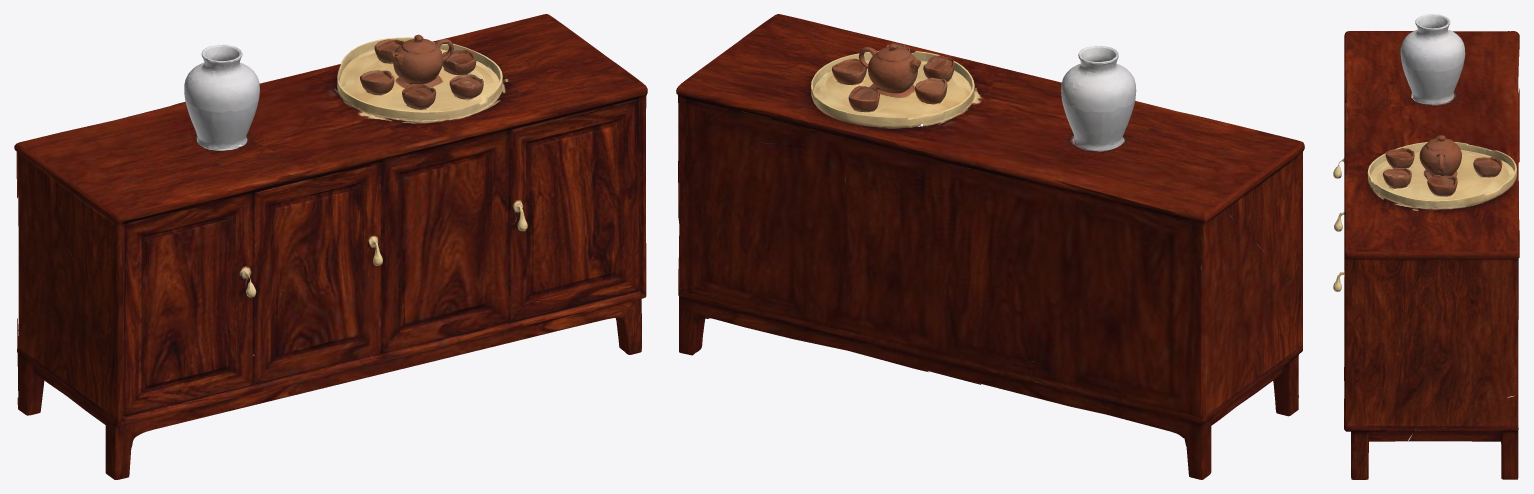
File: w5sideboard.glb
The picture shows the model from 3 angles, left to right: view 1: azimuth 30°, elevation 25°; view 2: azimuth 150°, elevation 25°; view 3: azimuth 270°, elevation 25°; orthographic projection. The views are drawn at different scales.
Visible parts, largest first — view 1: output_unwrapped; view 2: output_unwrapped; view 3: output_unwrapped.
Part boxes in pixels (<box>): output_unwrapped: <box>14,14,647,479</box>; output_unwrapped: <box>676,14,1304,479</box>; output_unwrapped: <box>1333,14,1519,479</box>.
Bounding box in the file's own units: 1.6 × 1.02 × 0.5653.
Materials: 1 (1 with a texture image).
